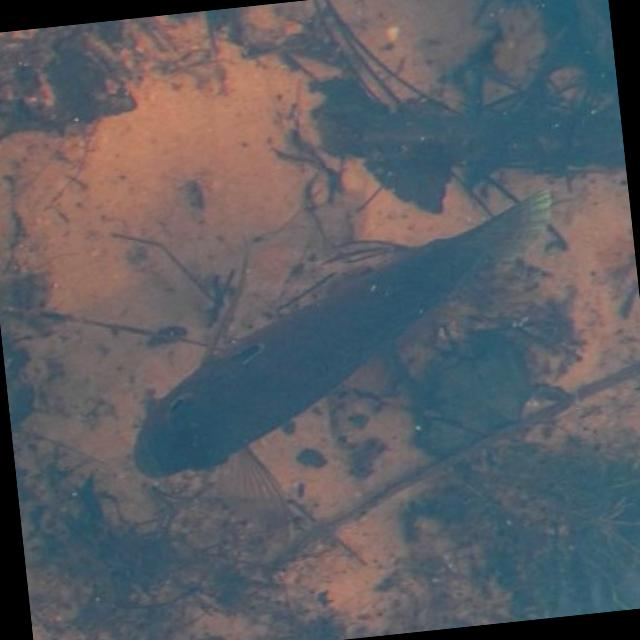Gunes Levregi: (106, 188, 577, 495)
